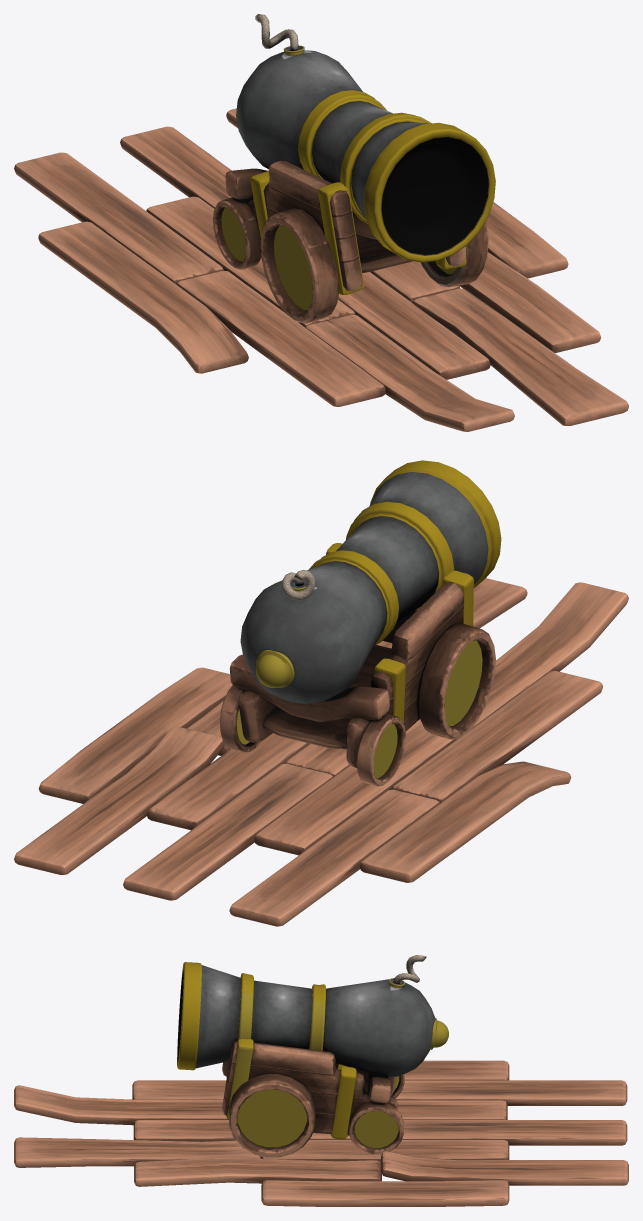
The model's file is cannon_stylized.glb.
3 renders of one model, top to bottom at view 1: azimuth 30°, elevation 25°; view 2: azimuth 150°, elevation 25°; view 3: azimuth 270°, elevation 25°, orthographic. The views are drawn at different scales.
Visible parts, largest first — view 1: Floor, StylizedCannon; view 2: Floor, StylizedCannon; view 3: Floor, StylizedCannon.
Part boxes in pixels (bbox=[...]): Floor: bbox=[14, 108, 628, 431]; StylizedCannon: bbox=[213, 14, 495, 323]; Floor: bbox=[14, 578, 628, 926]; StylizedCannon: bbox=[220, 460, 501, 786]; Floor: bbox=[14, 1060, 628, 1206]; StylizedCannon: bbox=[177, 955, 448, 1157].
Bounding box in the file's own units: 0.0783 × 0.0488 × 0.1447.
Materials: 2 (2 with a texture image).
